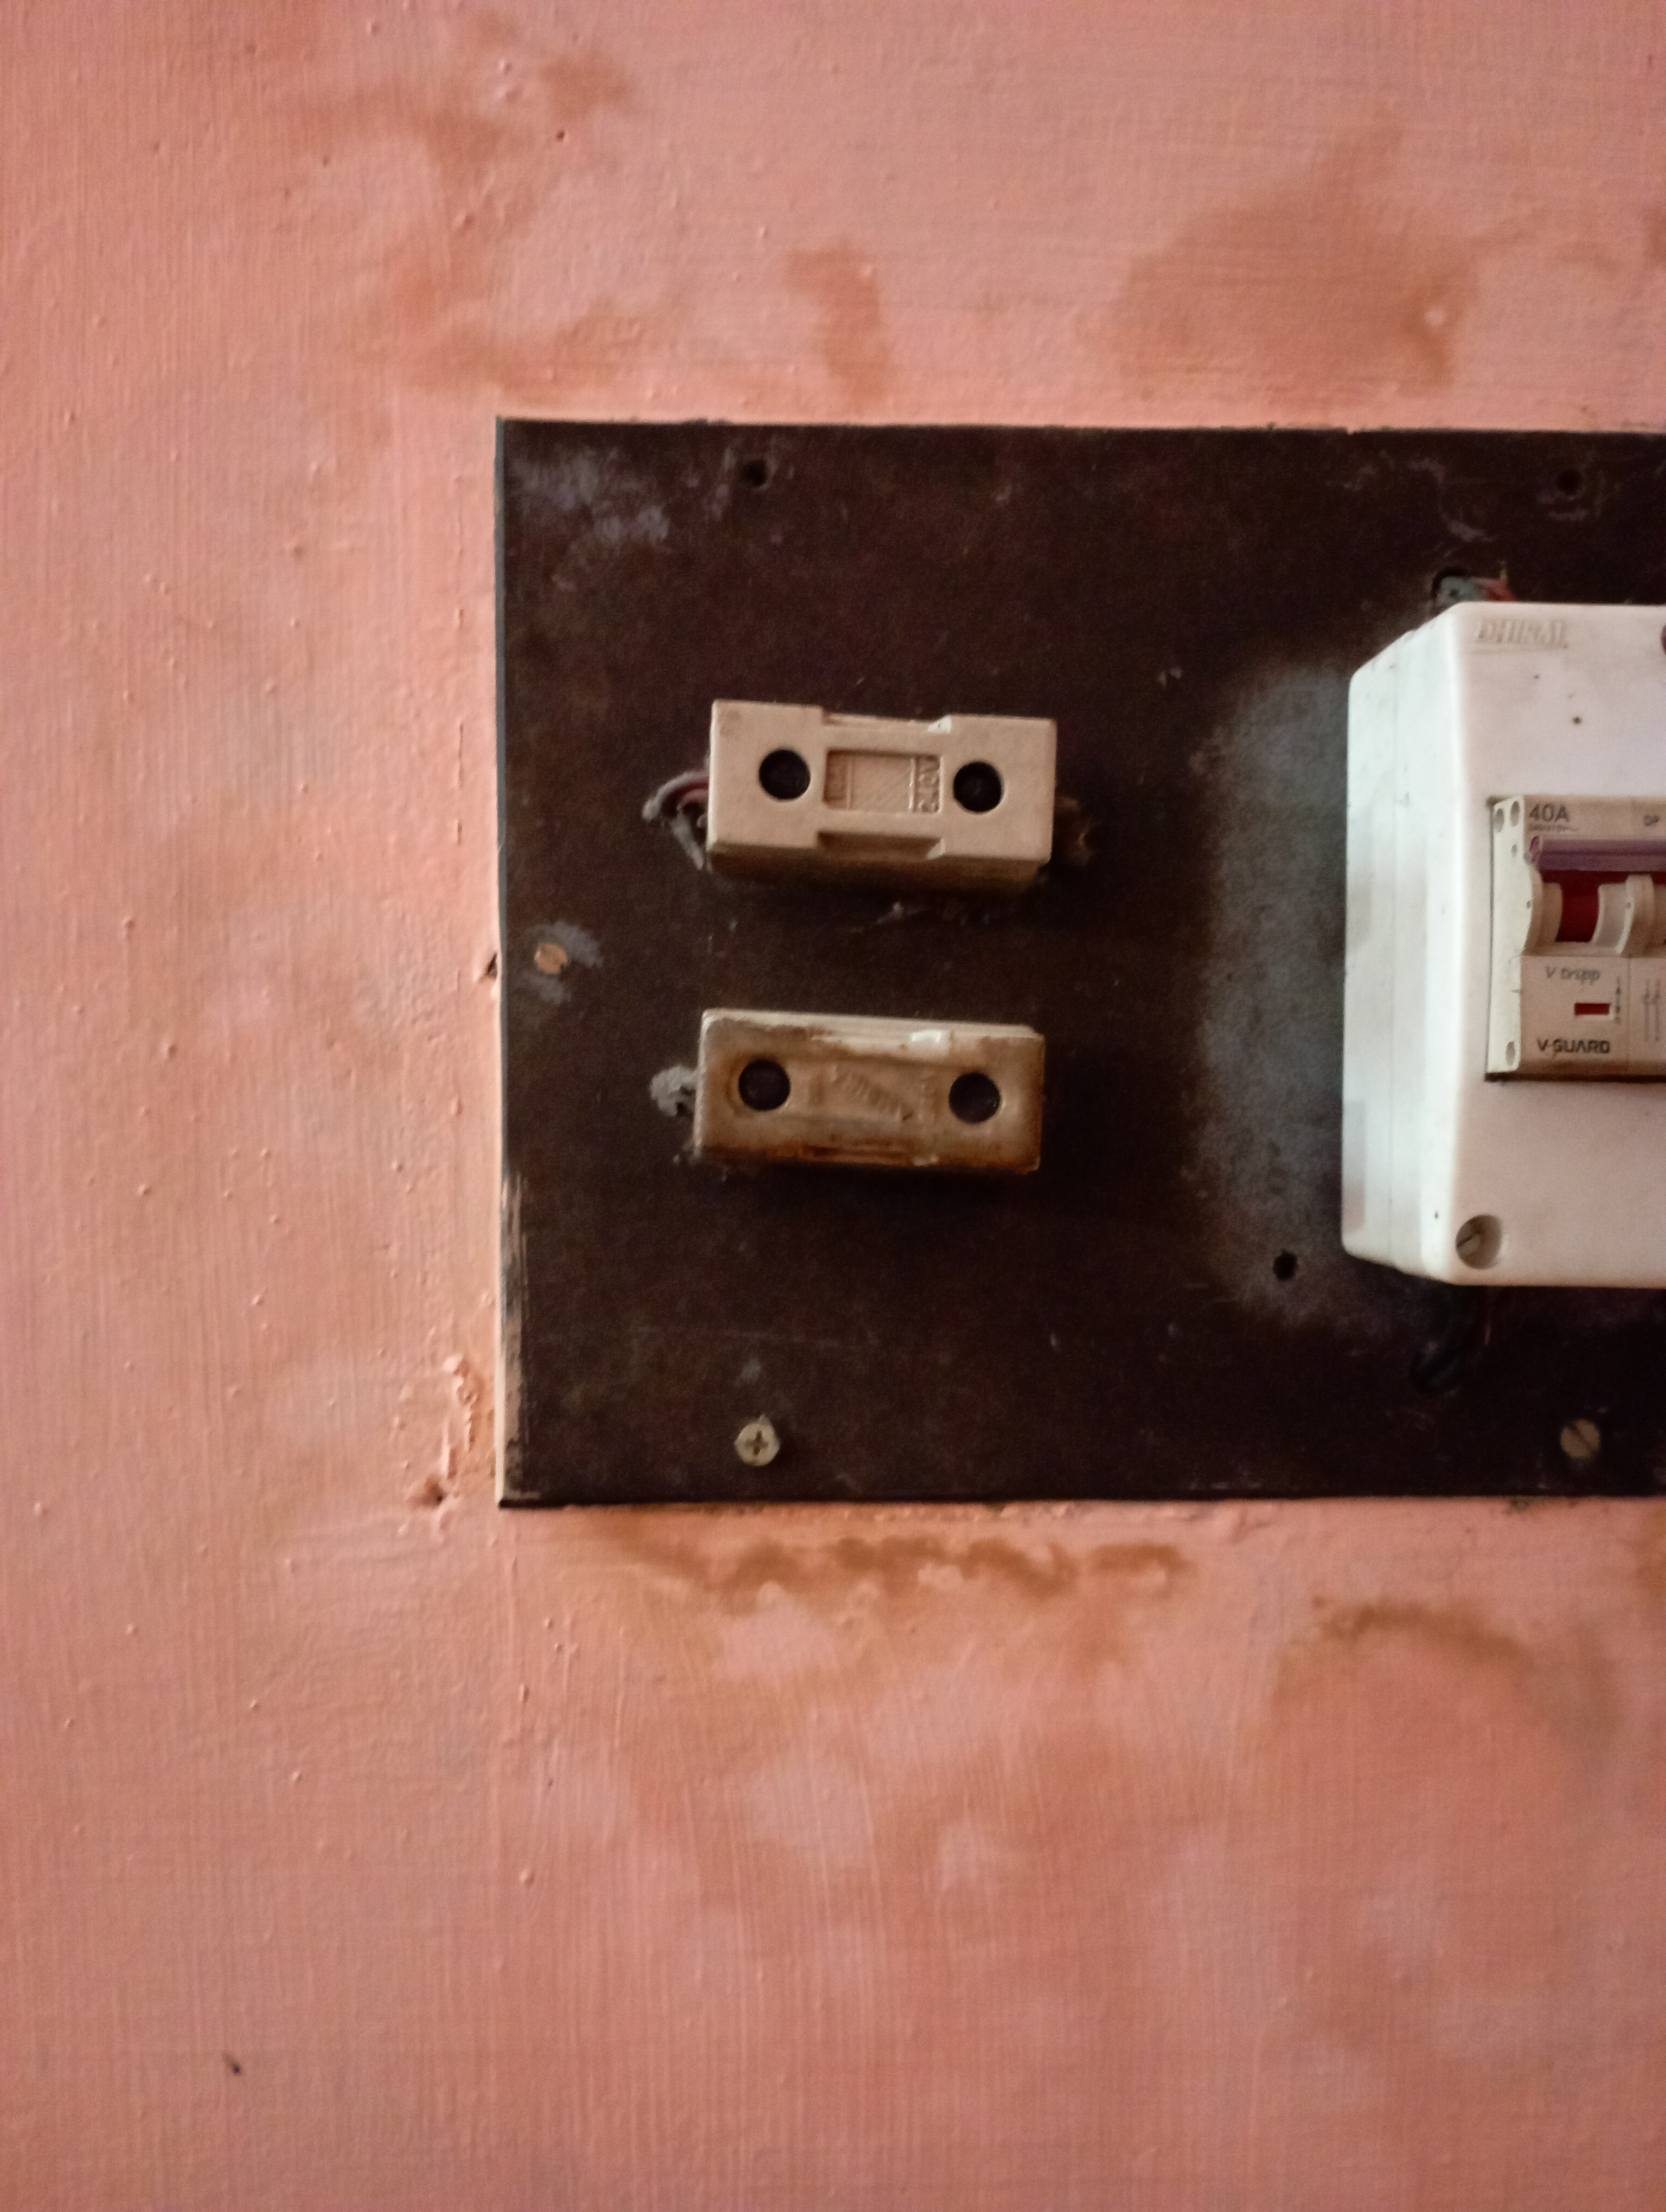ciruit_breaker: (1278, 582, 1666, 1317)
fuse: (648, 692, 1097, 899), (656, 991, 1045, 1200)
